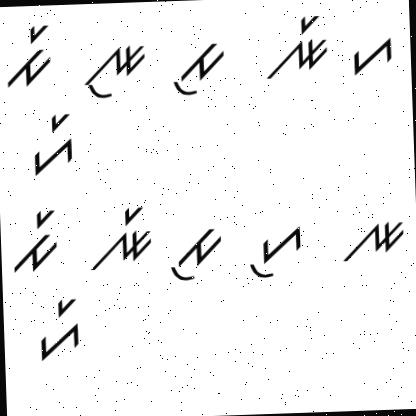ha: (346, 28, 399, 79)
har: (34, 295, 90, 367), (29, 110, 82, 184)
haw: (247, 221, 308, 280)
mbar: (0, 22, 56, 89), (10, 206, 62, 274)
mbaw: (164, 39, 228, 99), (164, 225, 226, 285)
nda: (333, 212, 407, 267)
ndar: (260, 12, 332, 81), (88, 200, 156, 273)
ndaw: (81, 37, 148, 102)
